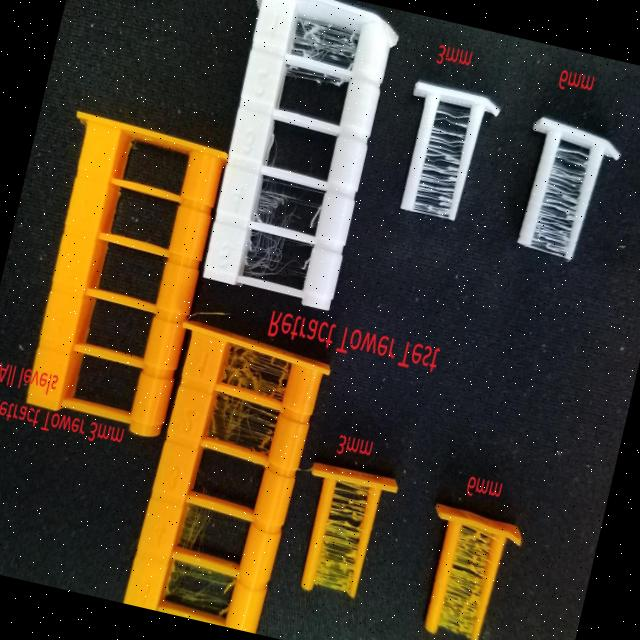stringing: (532, 142, 588, 258), (415, 104, 470, 222), (314, 486, 368, 596), (439, 532, 492, 640), (209, 396, 279, 452), (166, 562, 235, 616), (289, 12, 360, 61), (224, 347, 291, 398), (283, 58, 349, 94), (244, 232, 287, 279), (256, 181, 301, 218), (177, 505, 213, 549)
